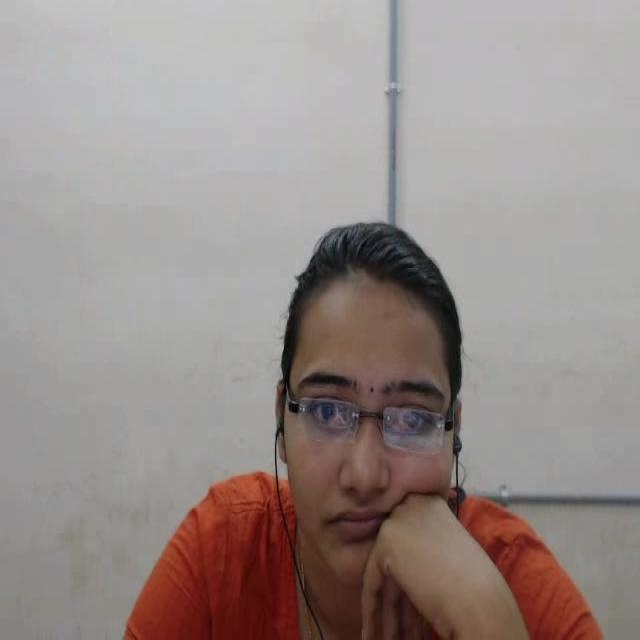Bored: (276, 204, 500, 610)
